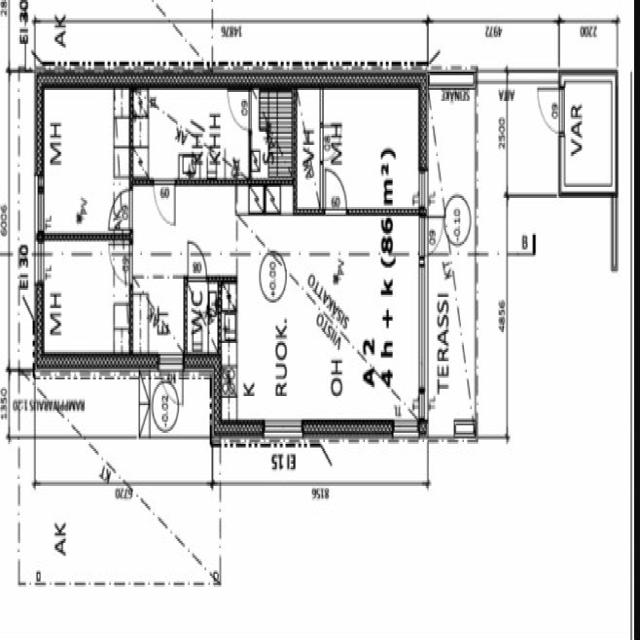door: (322, 162, 348, 215), (537, 86, 564, 134), (152, 175, 176, 228), (228, 88, 252, 132), (110, 185, 133, 230), (186, 238, 209, 281), (110, 242, 132, 286)
window: (416, 263, 430, 396), (261, 414, 305, 444), (608, 195, 621, 272), (390, 416, 420, 442), (34, 180, 46, 234), (416, 166, 429, 210), (34, 239, 46, 286), (454, 417, 476, 440)
zone: (232, 232, 425, 423), (41, 87, 131, 236), (322, 88, 422, 212), (135, 87, 250, 180), (41, 242, 130, 359), (427, 252, 477, 438), (562, 75, 616, 191), (132, 273, 186, 354), (251, 88, 296, 182), (297, 90, 322, 213), (187, 277, 220, 357)
